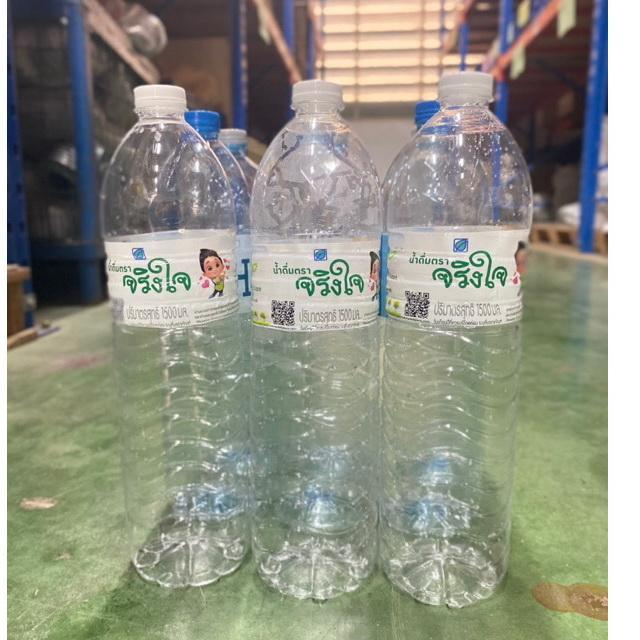PET Bottle: (374, 69, 550, 608), (70, 70, 251, 584), (245, 92, 391, 588)
